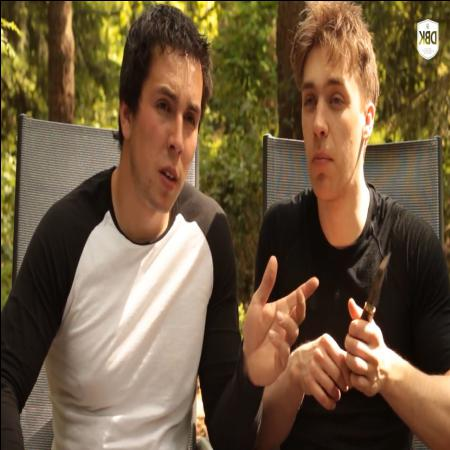long weapon: (344, 227, 396, 368)
